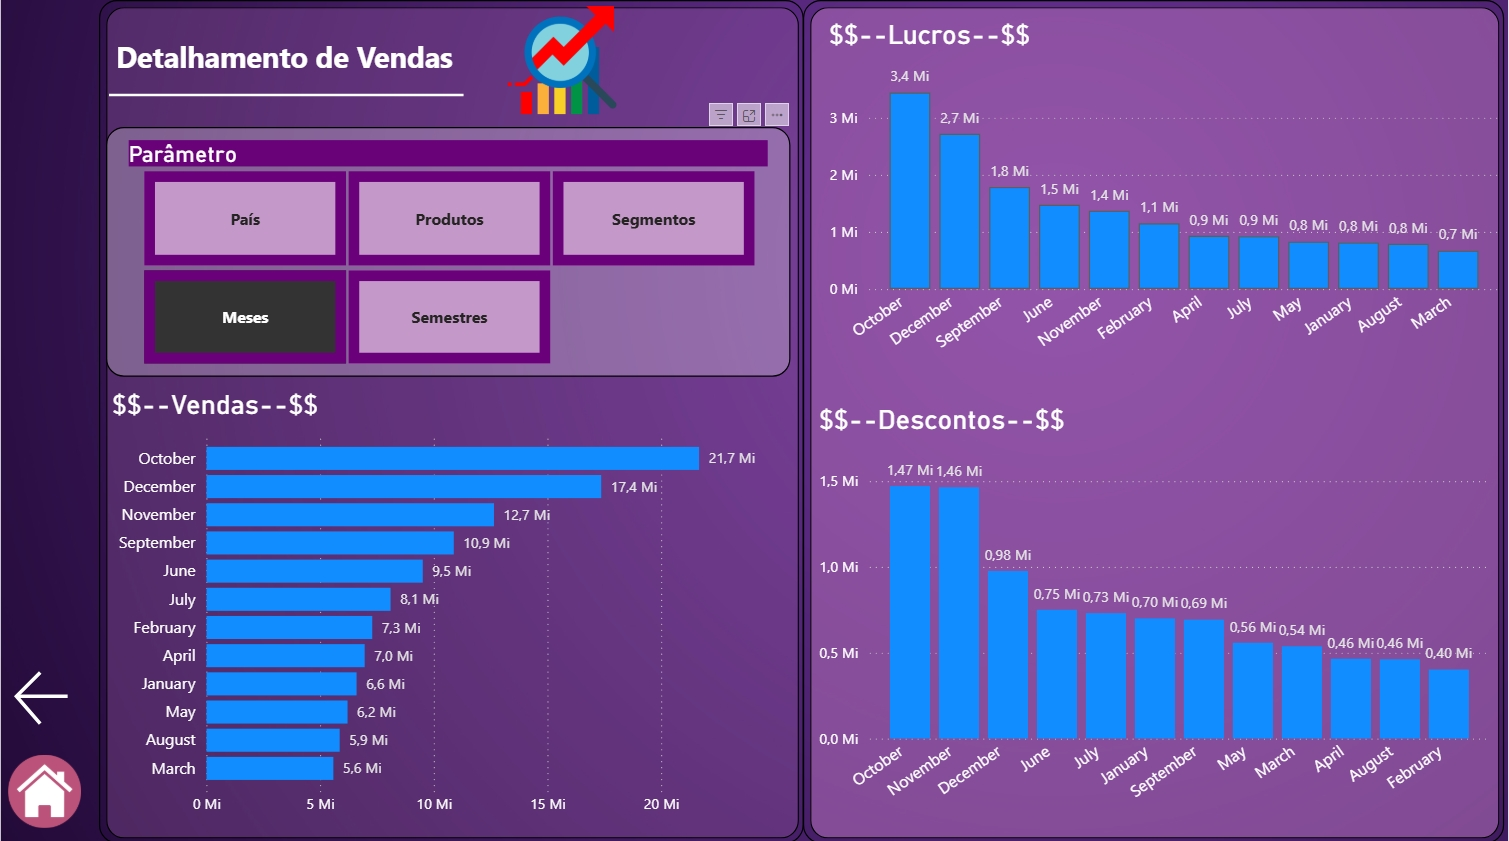

The dashboard page shown, as its layout file describes it:
{"tool":"powerbi","page":{"name":"DVLP_05","canvas":[1280,720],"ordinal":5},"visuals":[{"type":"image","title":"fundo_purple","box":[0,0,1280.2,720],"z":0},{"type":"shape","box":[681,7,587,706],"z":1000},{"type":"clusteredBarChart","title":"$$--Vendas--$$ ","fields":{"Category":["financials.Segment"],"Y":["financials.total sales"]},"box":[97,332,571,366],"z":1000,"group":"g1"},{"type":"shape","box":[91,7,590,706],"z":2000},{"type":"clusteredColumnChart","title":"$$--Descontos--$$ ","fields":{"Category":["financials.Segment"],"Y":["Sum(financials.Discounts)"]},"box":[689,345,571,353],"z":3000},{"type":"image","box":[425,0,110,113],"z":4000},{"type":"textbox","box":[100,32.5,312.1,70.1],"z":5000},{"type":"image","box":[9.1,633.9,73.5,70.7],"z":6000},{"type":"shape","box":[100,45,297,82],"z":7000},{"type":"actionButton","box":[15,563,67,57],"z":8000},{"type":"group","id":"g1","title":"Sales x Segmento","box":[97,113,583.5,595.1],"z":9000},{"type":"clusteredColumnChart","title":"$$--Lucros--$$ ","fields":{"Category":["financials.Segment"],"Y":["Sum(financials.Profit)"]},"box":[697,23,571,299],"z":10000},{"type":"slicer","fields":{"Values":["Parâmetro.Parâmetro"]},"box":[97,113,573,209],"z":11003,"group":"g1"}]}

Visuals, with their boxes in screenshot pixels (x1, y1, x2, y2), scaled from the page's 1280x720 canvas onto the 1509x841 screenshot:
"fundo_purple" image: <box>0,0,1508,840</box>
shape: <box>803,8,1495,833</box>
"$$--Vendas--$$ " clusteredBarChart: <box>114,388,788,815</box>
shape: <box>107,8,803,833</box>
"$$--Descontos--$$ " clusteredColumnChart: <box>812,403,1485,815</box>
image: <box>501,0,631,132</box>
textbox: <box>118,38,486,120</box>
image: <box>11,740,97,823</box>
shape: <box>118,53,468,148</box>
actionButton: <box>18,658,97,724</box>
"Sales x Segmento" group: <box>114,132,802,827</box>
"$$--Lucros--$$ " clusteredColumnChart: <box>822,27,1495,376</box>
slicer - Parâmetro.Parâmetro: <box>114,132,790,376</box>
